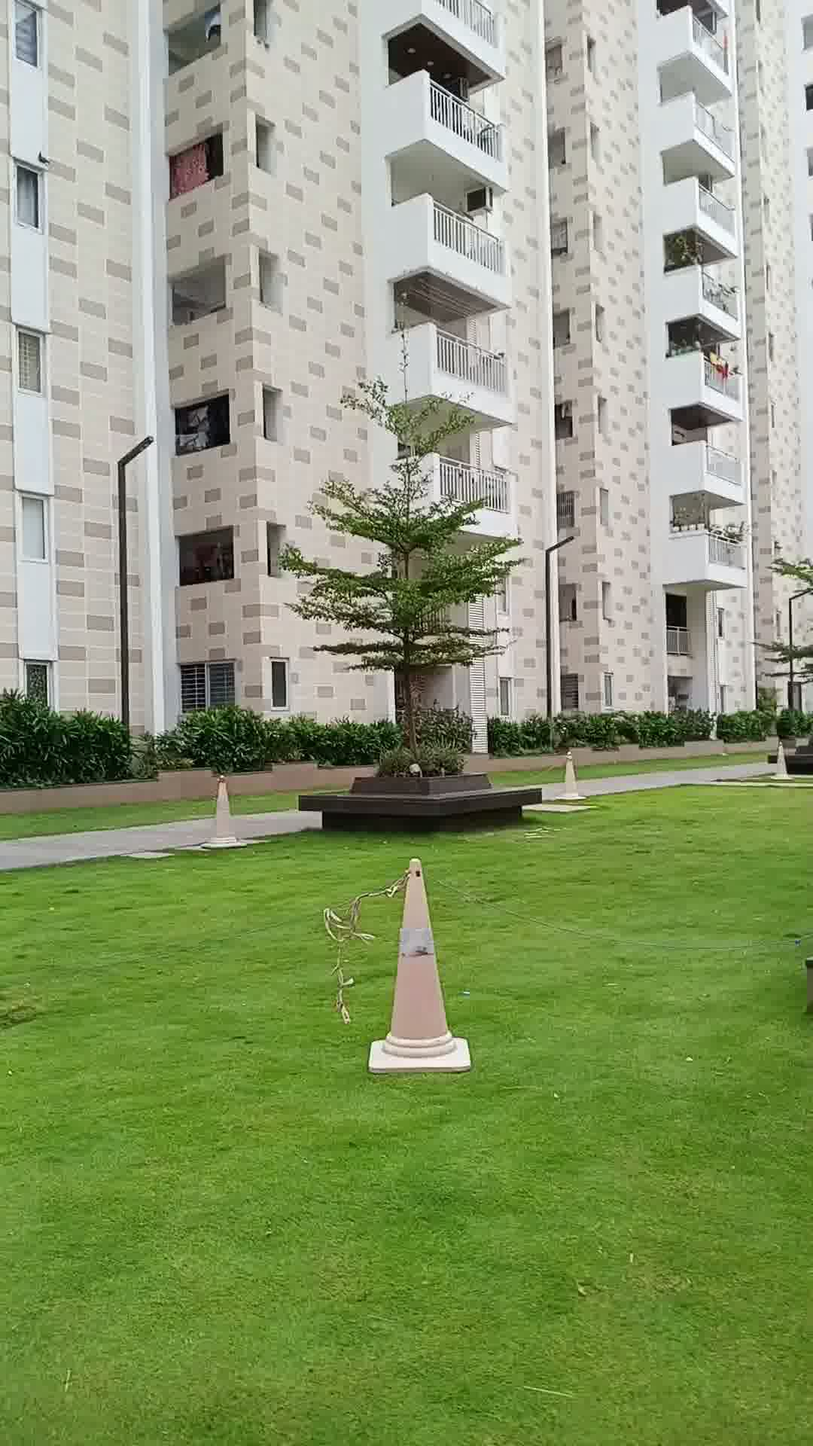tree: (290, 342, 549, 751)
